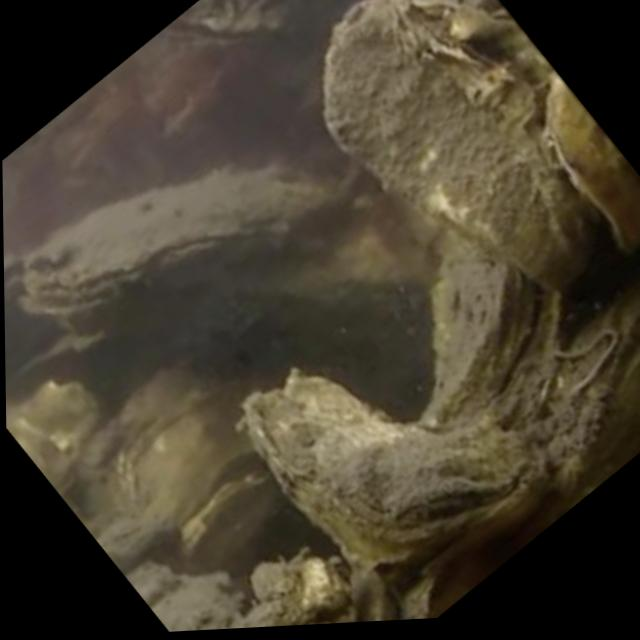Oyster-Closed: (168, 0, 304, 54)
Oyster-Indeterminate: (327, 0, 621, 290), (249, 366, 547, 562), (28, 147, 346, 325), (127, 366, 255, 536), (548, 72, 640, 246), (180, 473, 278, 571)
